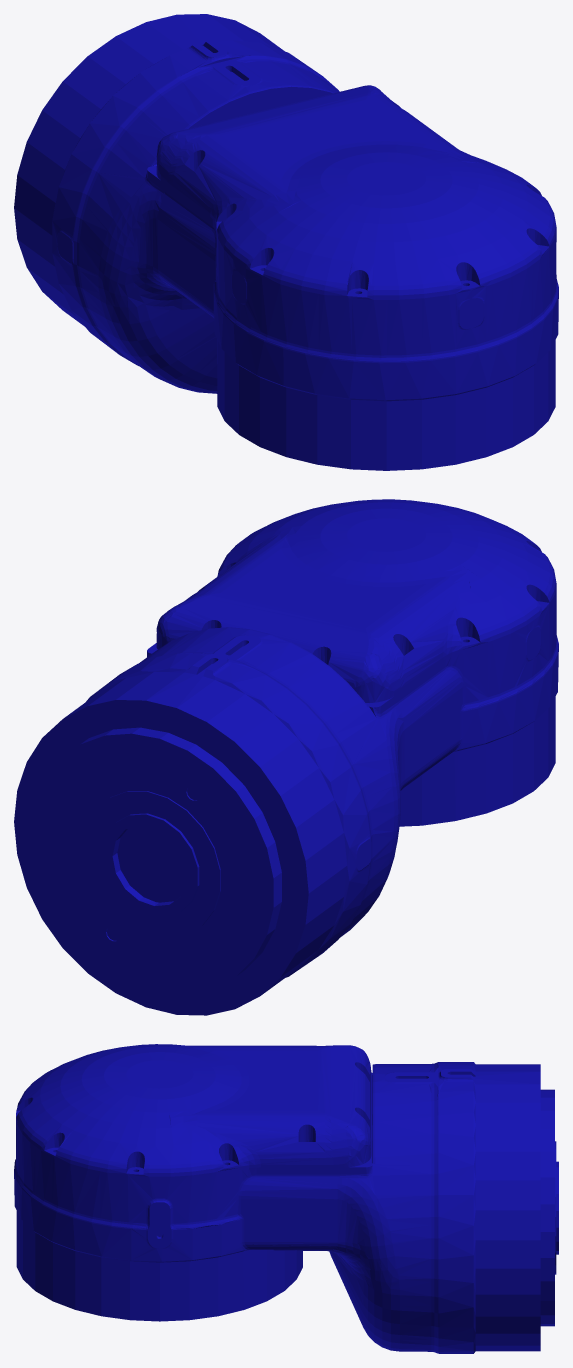
The model's file is MOTOMAN_AXIS_S.dae.
3 renders of one model, top to bottom at view 1: azimuth 30°, elevation 25°; view 2: azimuth 150°, elevation 25°; view 3: azimuth 270°, elevation 25°, orthographic. The views are drawn at different scales.
Parts seen in each view (by area): view 1: node; view 2: node; view 3: node.
Boxes of the visible parts, x1=… form: node: x1=14, y1=14, x2=558, y2=470; node: x1=14, y1=499, x2=558, y2=1015; node: x1=14, y1=1044, x2=558, y2=1353.
Bounding box in the file's own units: 0.218 × 0.22 × 0.4069.
